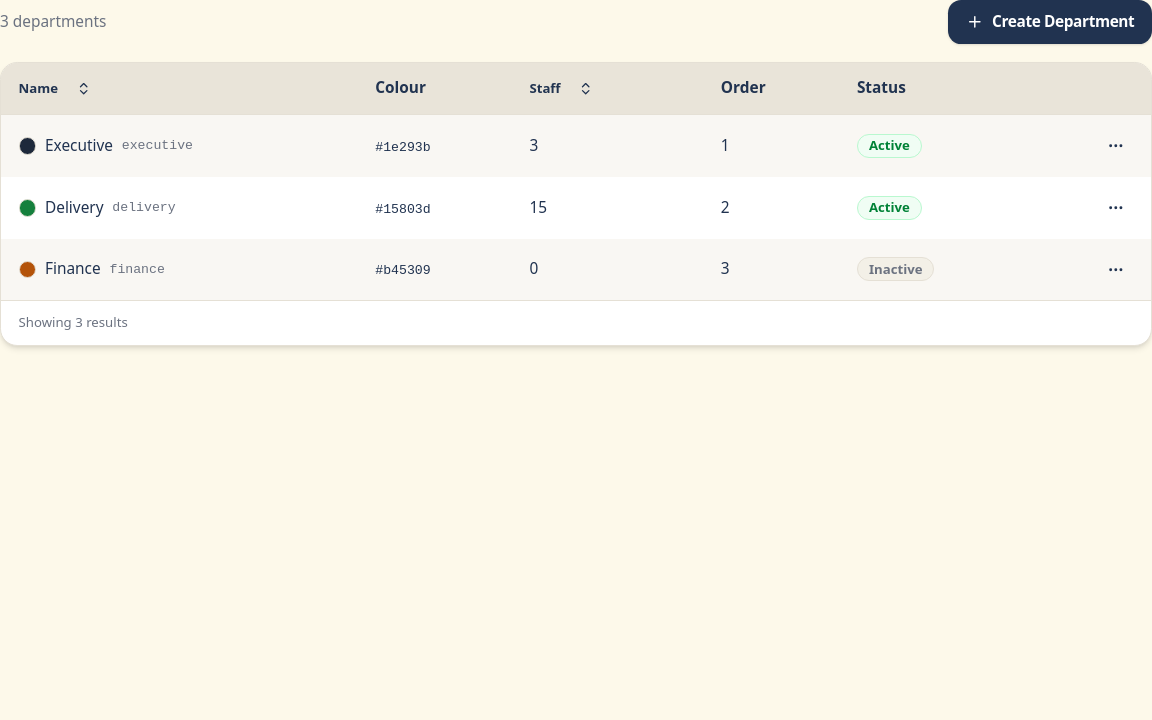
DepartmentManagementContent › shows deactivate confirmation from dropdown
Note: Open dropdown for first department (active, 3 staff)
Press the mouse on the button named "Actions for": (1116, 146) [1098,129,1133,164]
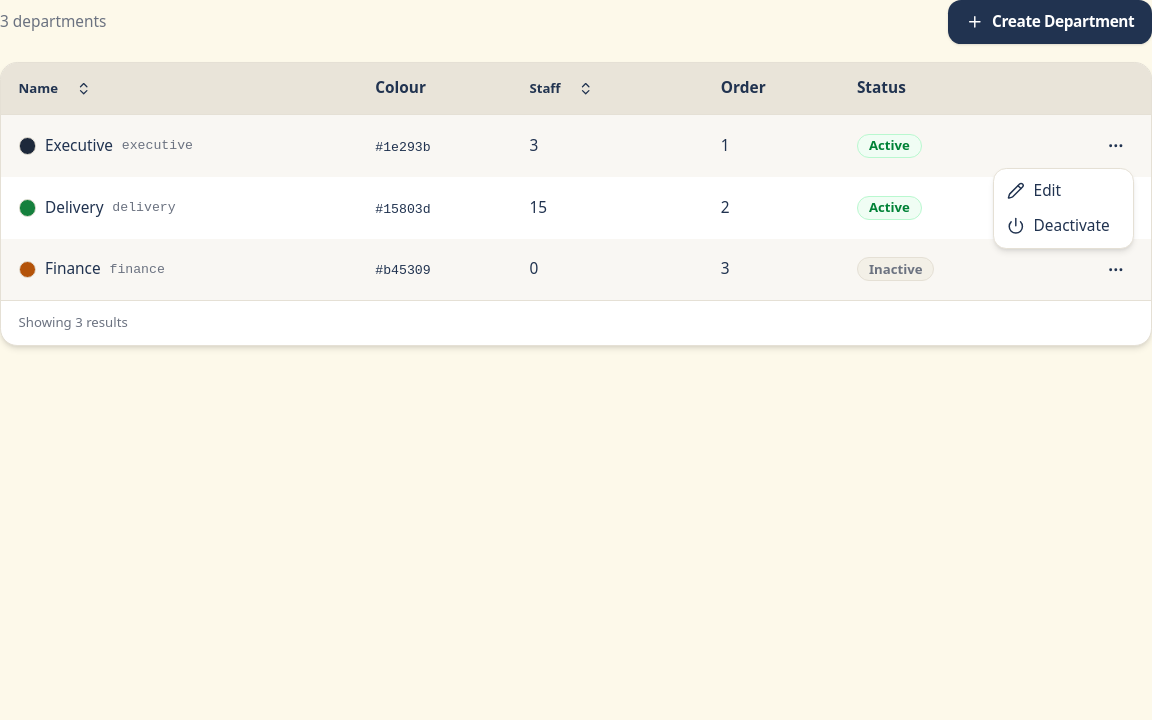
Click the menu item "Deactivate": (1058, 226) [1007,215,1110,236]
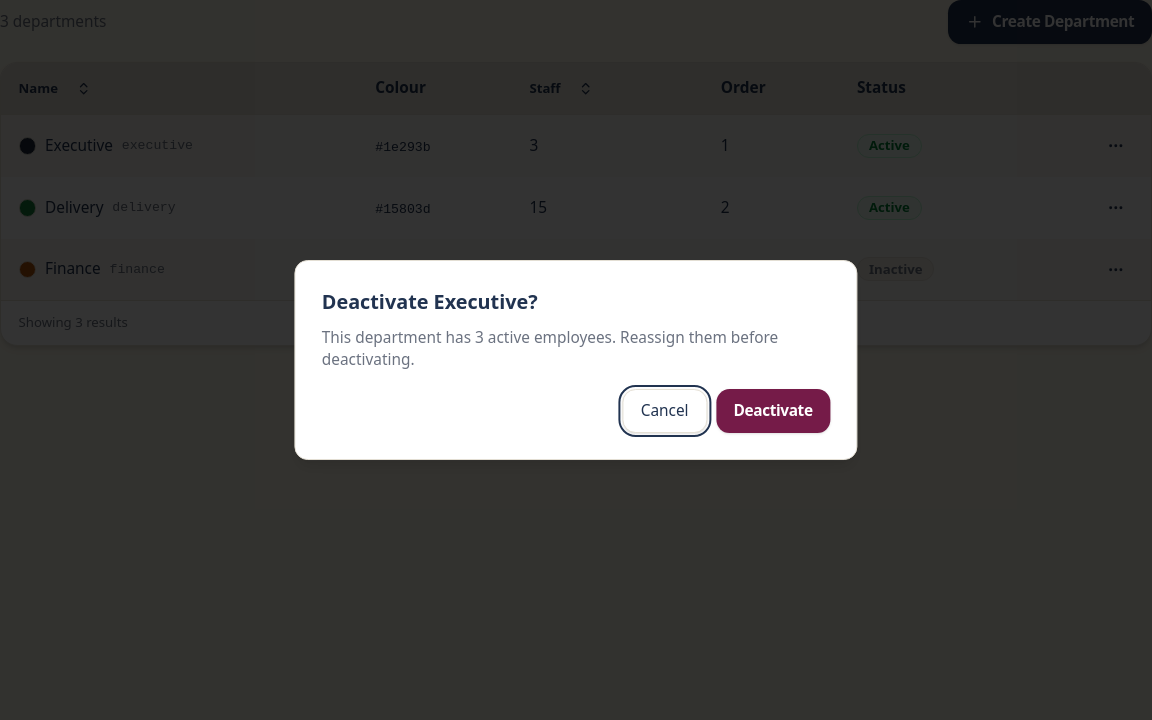
Result: the heading "Deactivate Executive?" is shown at [322,288,538,315]
